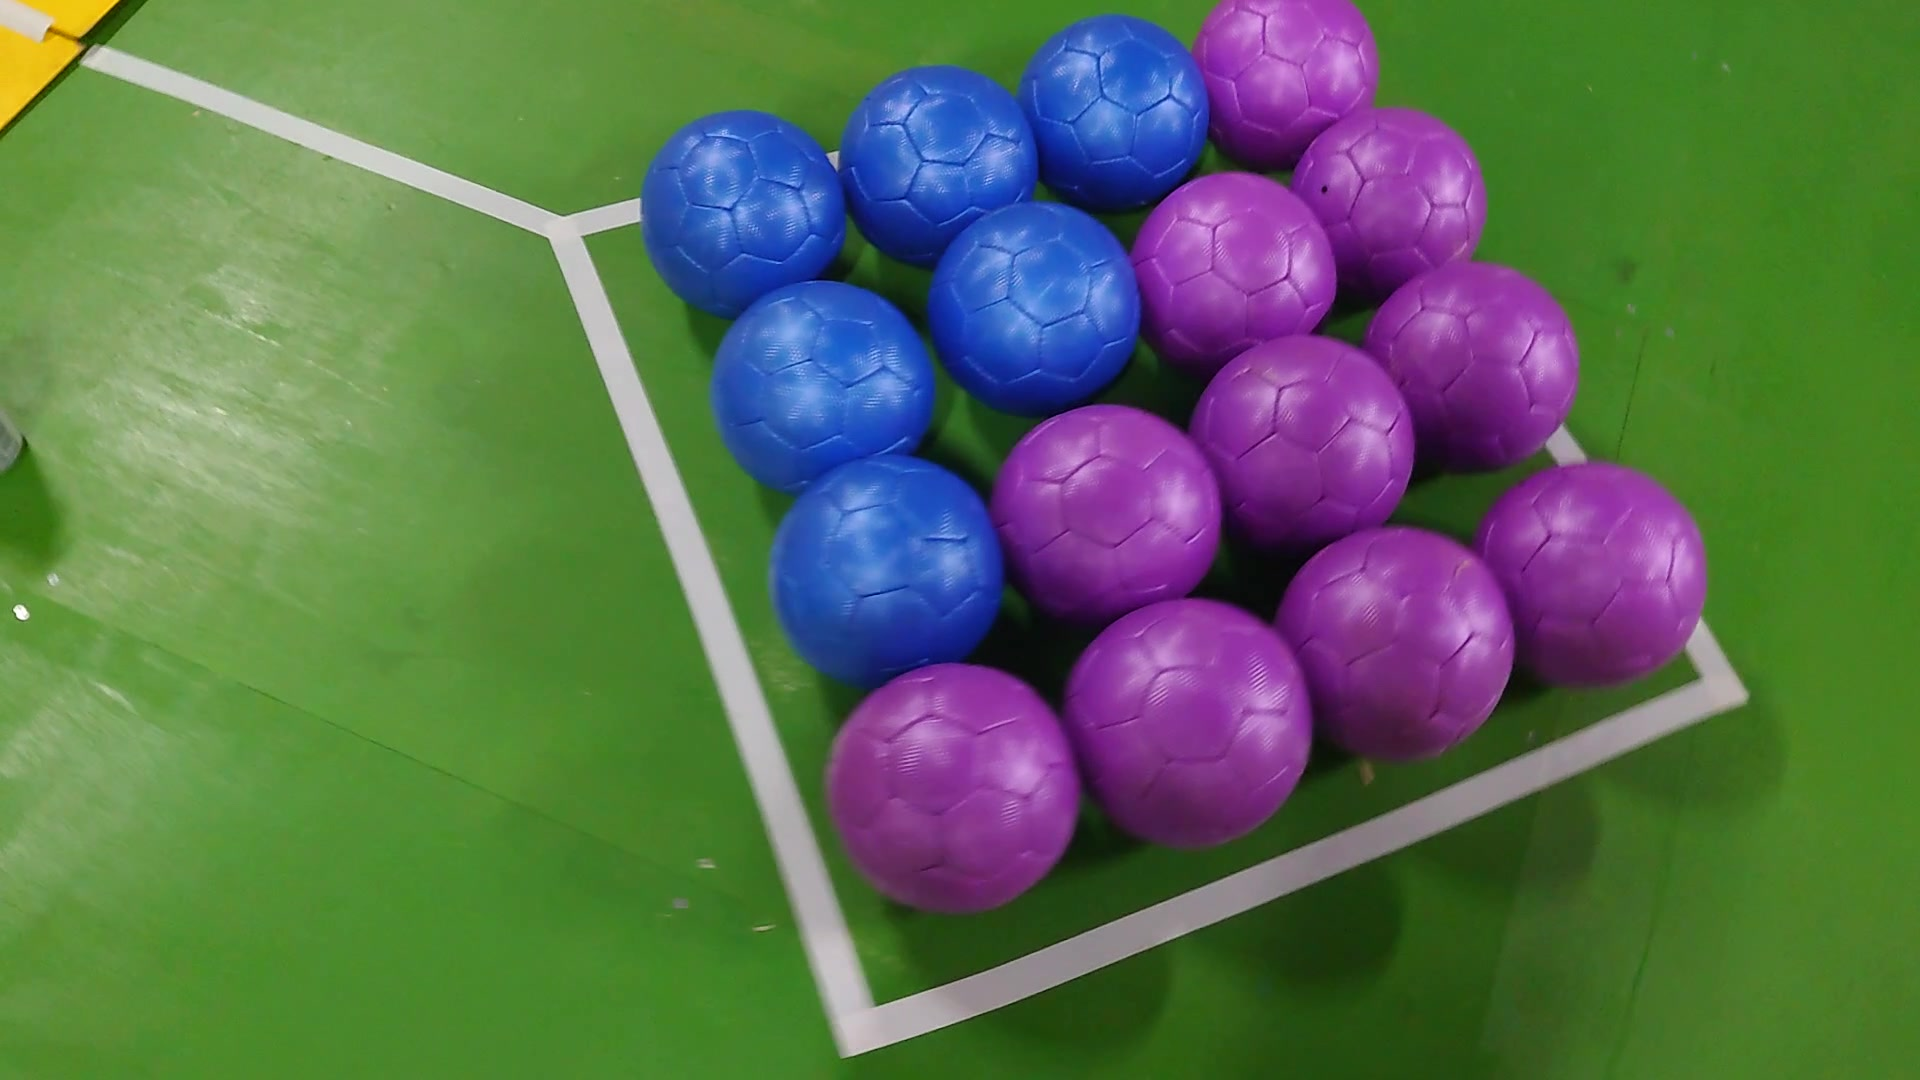blue: (774, 451, 1000, 676), (715, 274, 944, 487), (931, 199, 1137, 418), (637, 104, 845, 307), (832, 66, 1042, 255), (1015, 9, 1208, 199)
purple: (823, 659, 1084, 924), (1055, 601, 1316, 856), (1261, 529, 1518, 764), (1469, 460, 1708, 692), (989, 405, 1228, 615), (1188, 334, 1420, 549), (1365, 261, 1577, 464), (1133, 170, 1338, 359), (1290, 111, 1486, 265), (1192, 3, 1385, 144)
